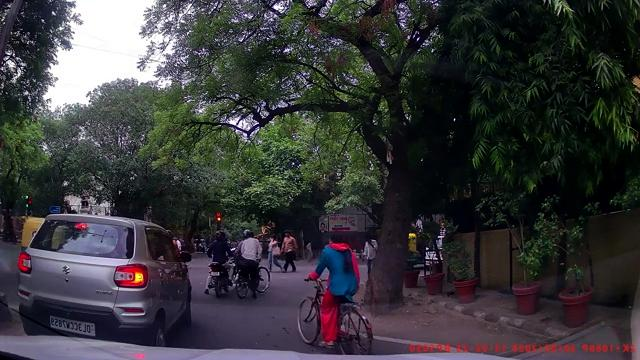motorcycle_with_helmet: (205, 229, 234, 298)
